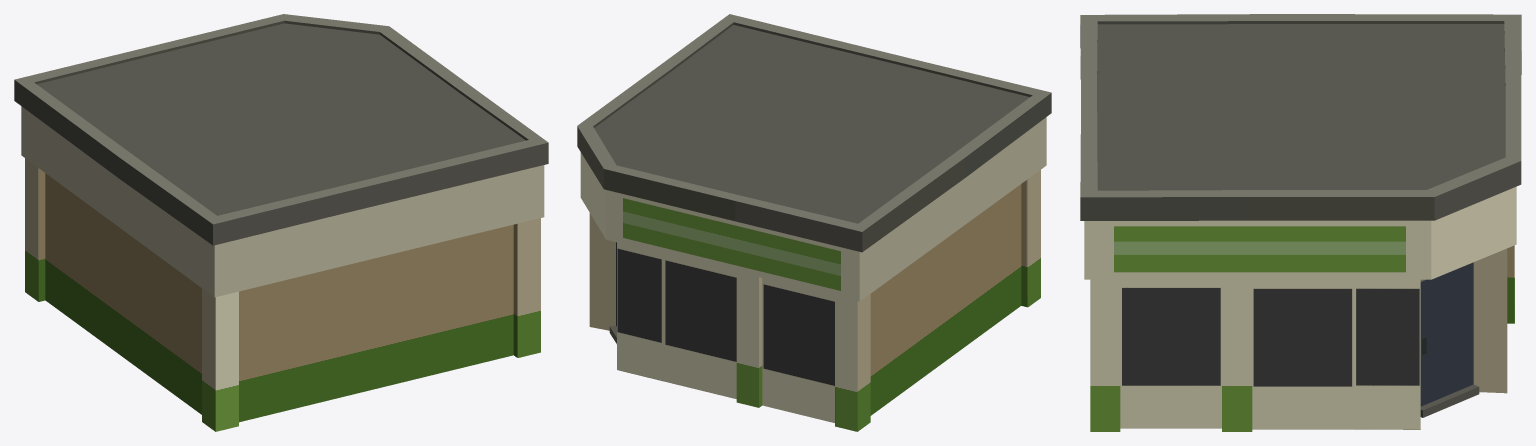
The model's file is store_corner_mesh.fbx.
The picture shows the model from 3 angles, left to right: view 1: azimuth 30°, elevation 25°; view 2: azimuth 150°, elevation 25°; view 3: azimuth 270°, elevation 25°; orthographic projection. The views are drawn at different scales.
Parts seen in each view (by area): view 1: store_corner_mesh; view 2: store_corner_mesh; view 3: store_corner_mesh.
Part boxes in pixels (box(x1,y1,x2,y2)): store_corner_mesh: box(14, 14, 548, 431); store_corner_mesh: box(577, 14, 1051, 431); store_corner_mesh: box(1080, 14, 1521, 431).
Size of what is drawn, in the model's own units: 11.06 by 6.66 by 11.26.
